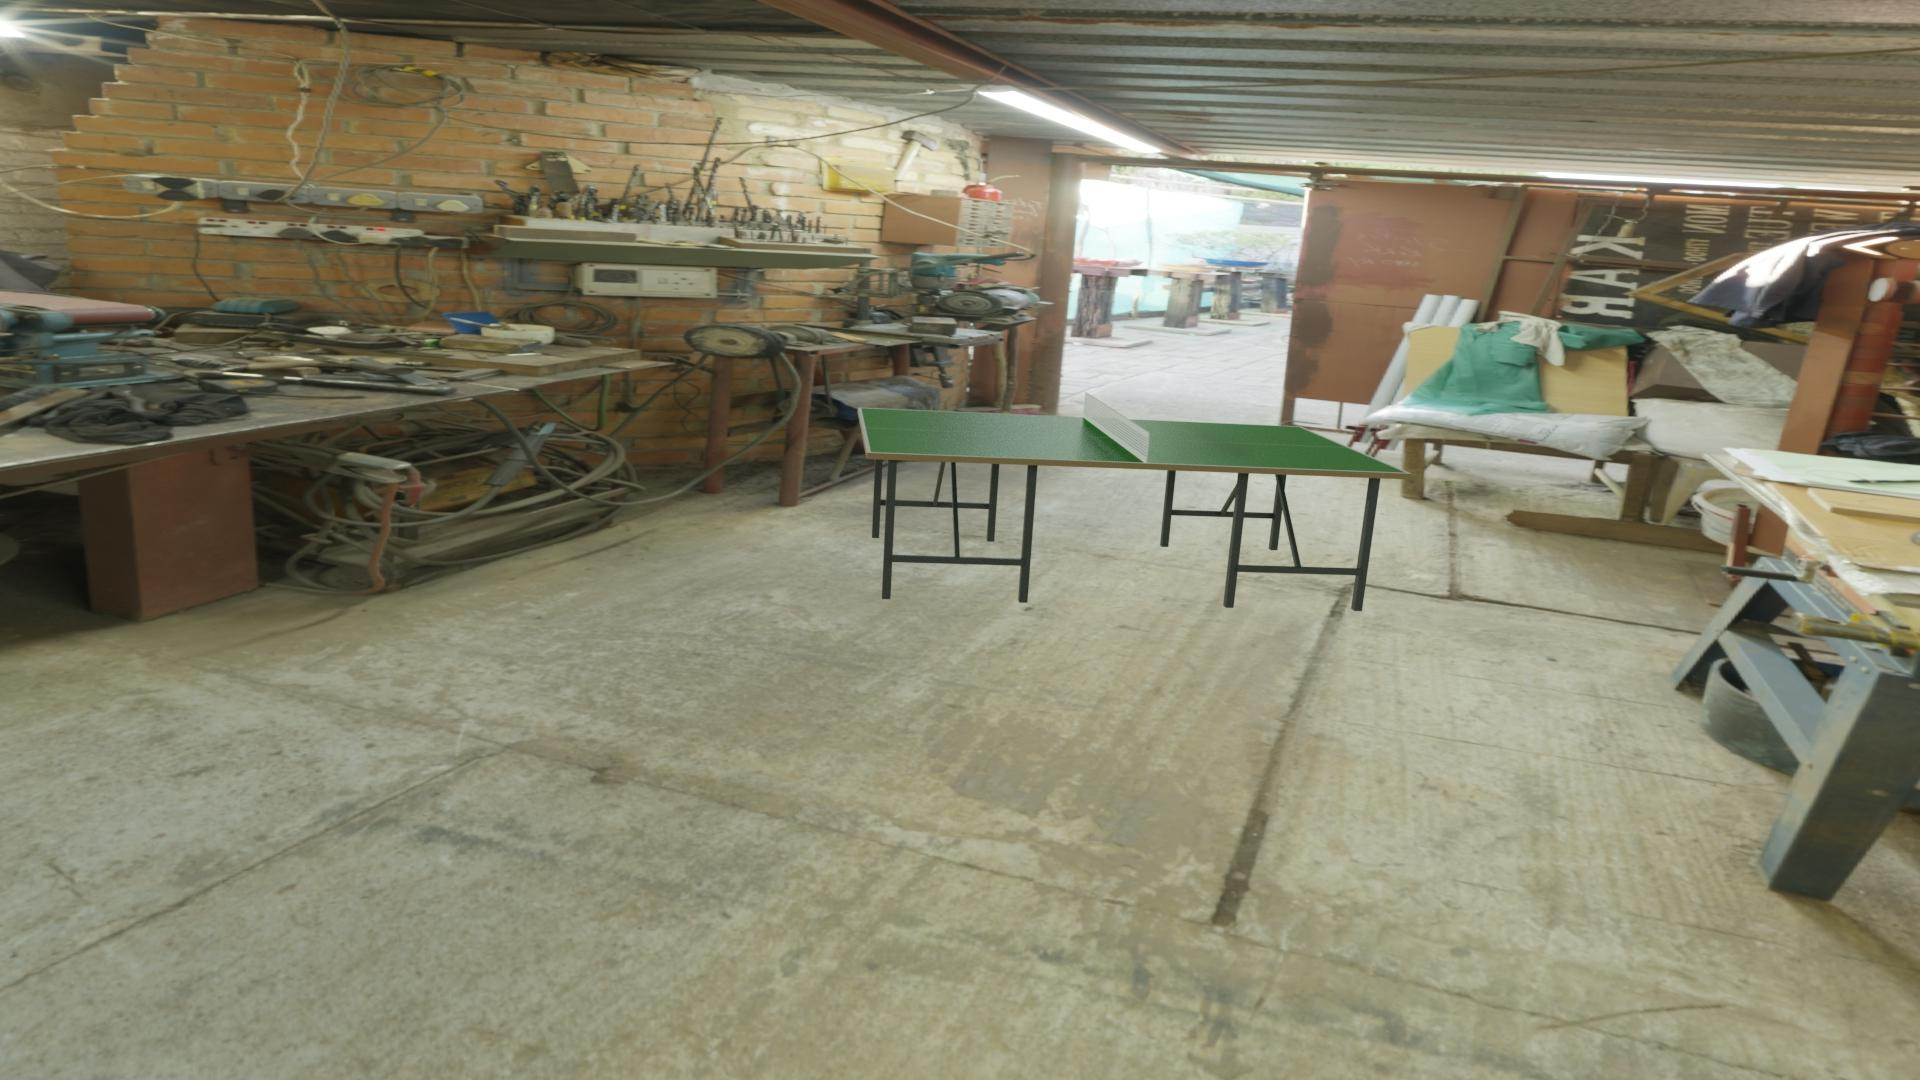table: (861, 409, 1406, 472)
